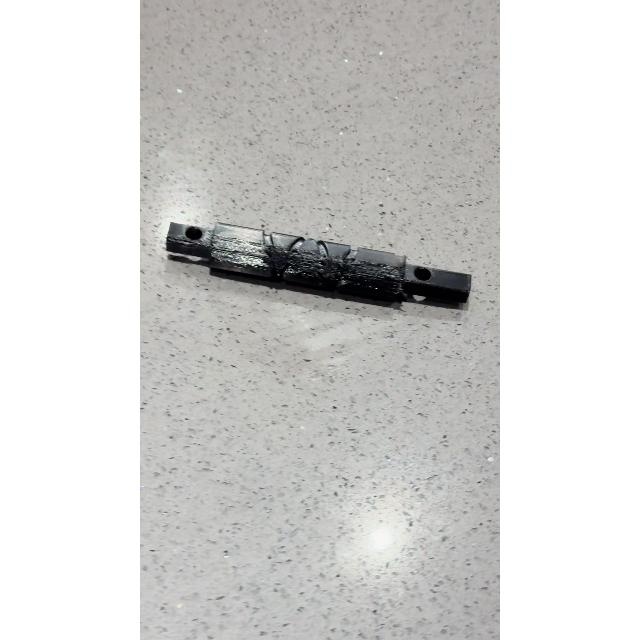Pieza_1: (168, 208, 478, 328)
